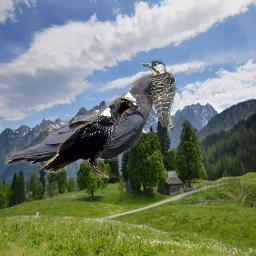Crow: (4, 73, 176, 166), (39, 97, 140, 178)
Woodpecker: (140, 60, 183, 146)
